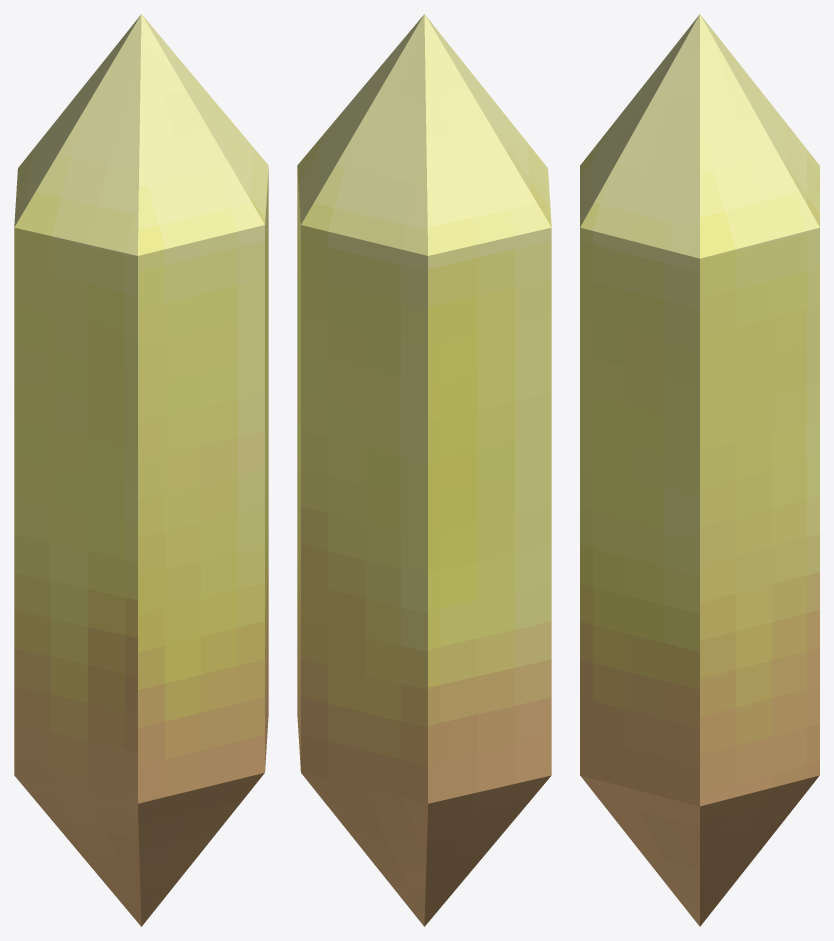
Rendered from crystal.gltf.
The picture shows the model from 3 angles, left to right: view 1: azimuth 30°, elevation 25°; view 2: azimuth 150°, elevation 25°; view 3: azimuth 270°, elevation 25°; orthographic projection.
Visible parts, largest first — view 1: sphere; view 2: sphere; view 3: sphere.
Part boxes in pixels (left/top/right/bottom): sphere: left=14, top=14, right=268, bottom=926; sphere: left=297, top=14, right=551, bottom=926; sphere: left=580, top=14, right=819, bottom=926.
Bounding box in the file's own units: 0.2188 × 0.75 × 0.1785.
1 material, 1 textured.
